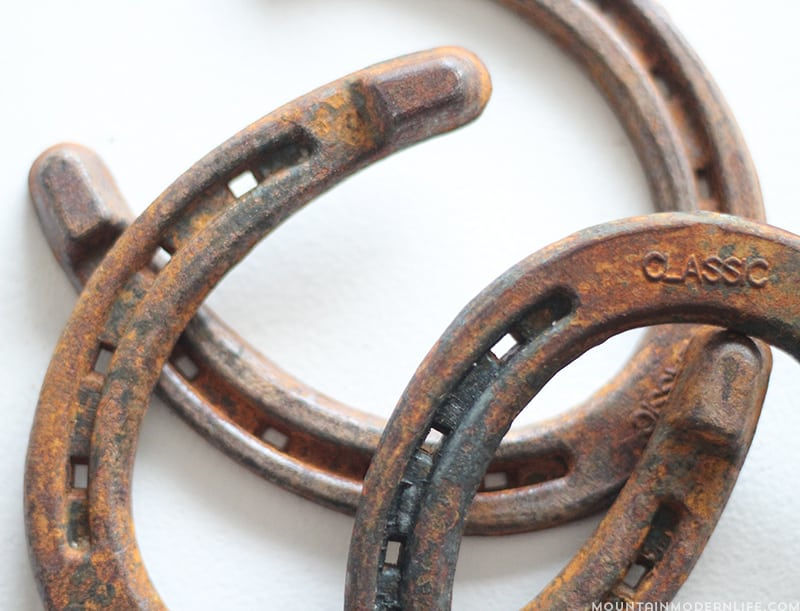rust: (40, 277, 165, 603), (574, 419, 748, 607), (592, 226, 792, 334), (321, 93, 388, 143), (218, 388, 280, 433), (306, 446, 364, 480)
